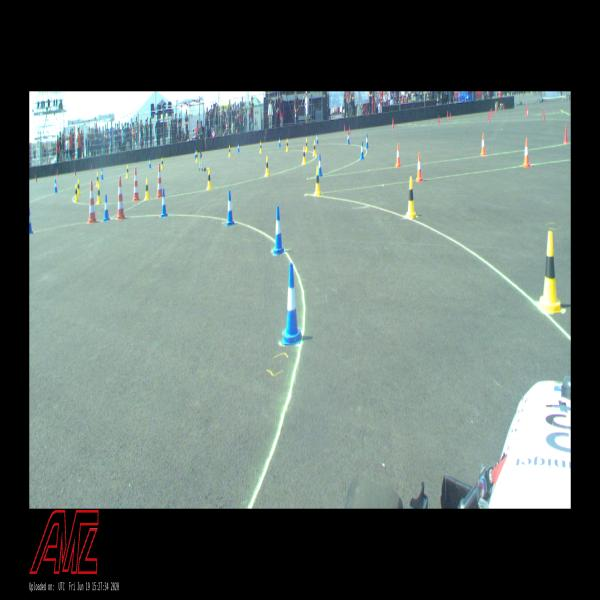blue_cone: (283, 264, 302, 344), (273, 206, 284, 256), (225, 190, 235, 226), (159, 188, 169, 218), (103, 194, 109, 220), (29, 209, 34, 234), (318, 154, 322, 176), (360, 141, 364, 160), (100, 167, 104, 180), (54, 178, 57, 192), (366, 132, 368, 150), (278, 136, 281, 148), (237, 142, 240, 153), (347, 131, 349, 146), (316, 132, 318, 145), (149, 157, 151, 169), (195, 148, 196, 160)
large_orange_cone: (115, 178, 127, 220), (86, 181, 98, 223), (131, 167, 141, 202), (156, 164, 163, 198)
orange_cone: (522, 138, 530, 168), (416, 152, 423, 183), (395, 142, 401, 168), (480, 132, 486, 156)
yellow_cone: (540, 230, 562, 312), (406, 176, 416, 219), (314, 167, 321, 194), (206, 167, 212, 191), (144, 178, 150, 202), (264, 156, 270, 178), (74, 183, 79, 203), (96, 184, 101, 203), (302, 144, 306, 166), (77, 179, 81, 196), (285, 138, 289, 153), (96, 172, 100, 187), (160, 157, 164, 170), (313, 140, 316, 157), (305, 138, 308, 153), (259, 141, 262, 154), (228, 145, 231, 157), (196, 150, 198, 164), (126, 164, 128, 177)
